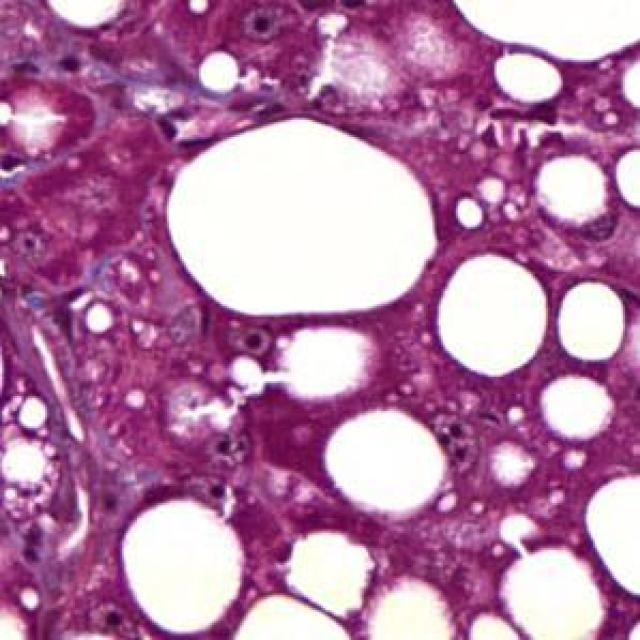steatosis: (165, 130, 436, 314), (124, 498, 248, 634), (323, 404, 450, 514), (443, 255, 552, 376)
